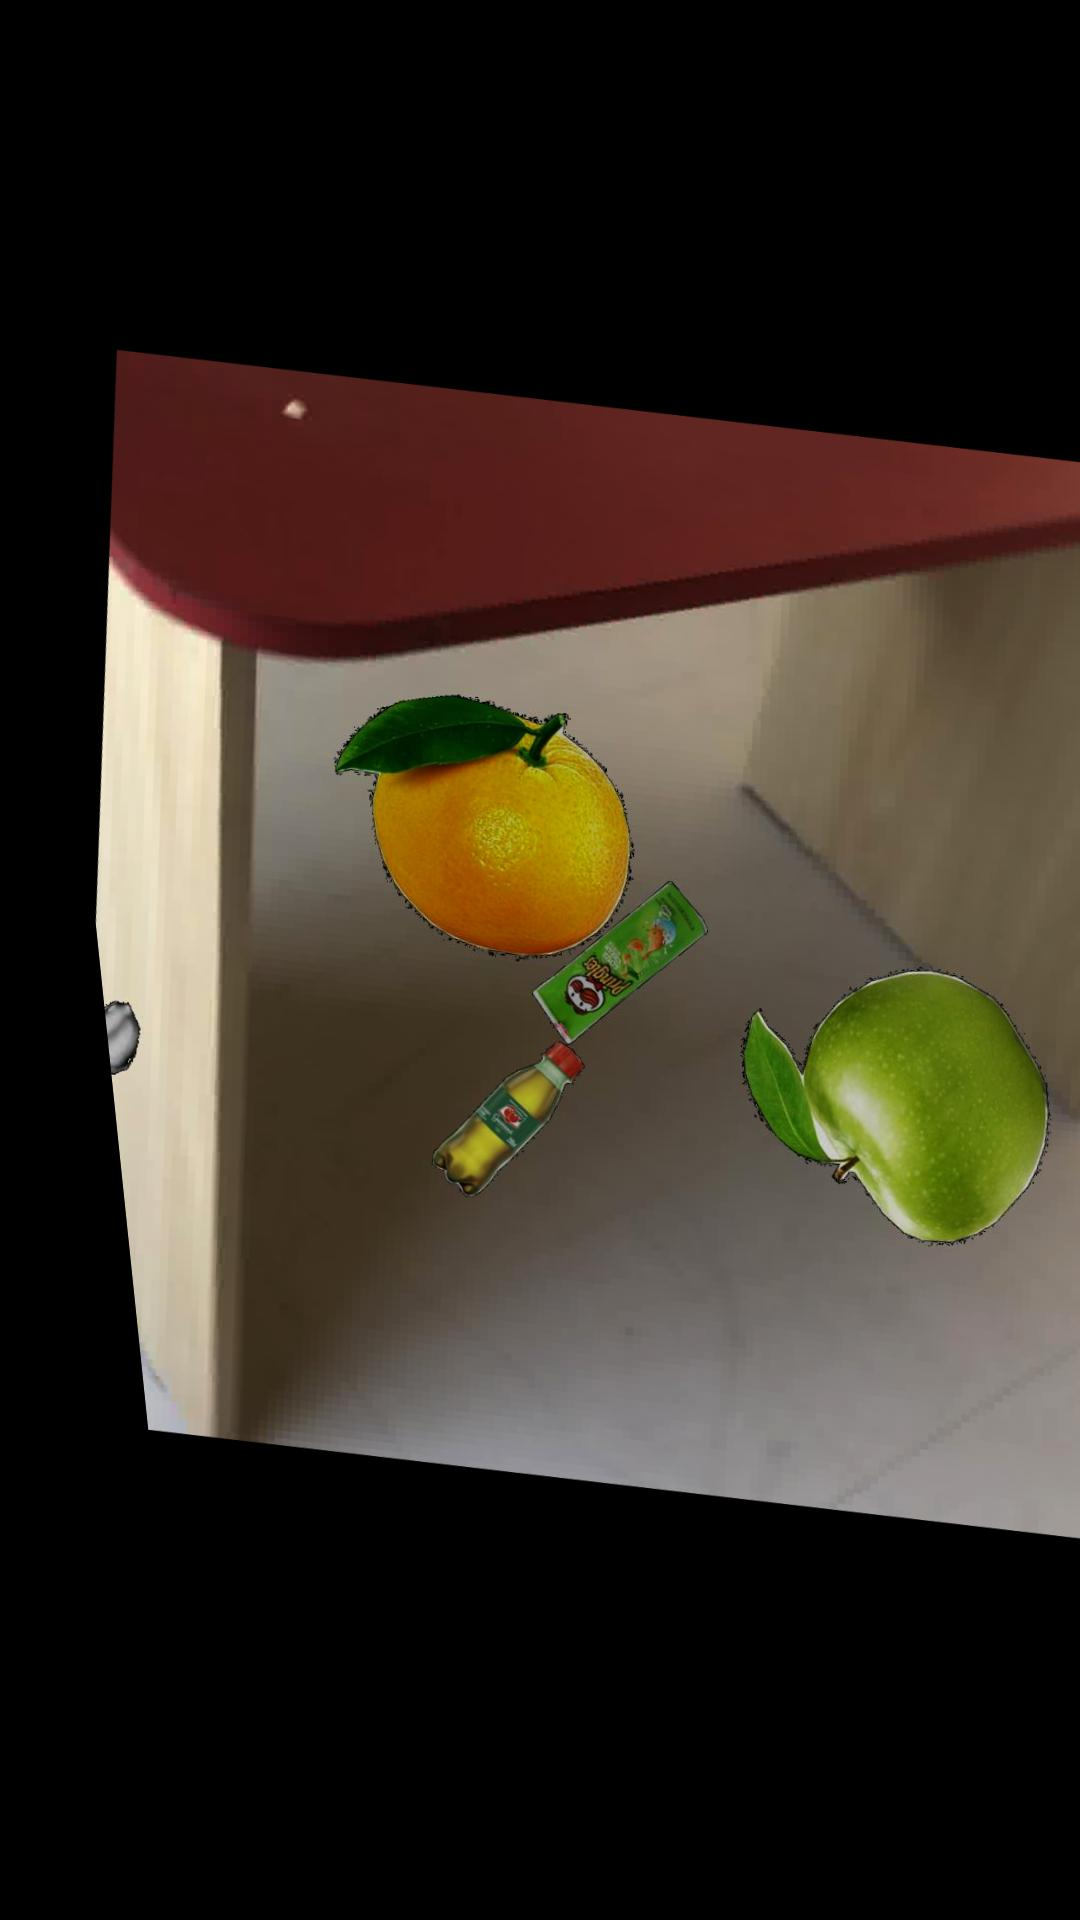green apple: (720, 973, 1027, 1247)
guarana: (407, 1043, 563, 1199)
orange: (320, 698, 615, 961)
pringles: (512, 884, 688, 1047)
spoon: (82, 1001, 119, 1076)
